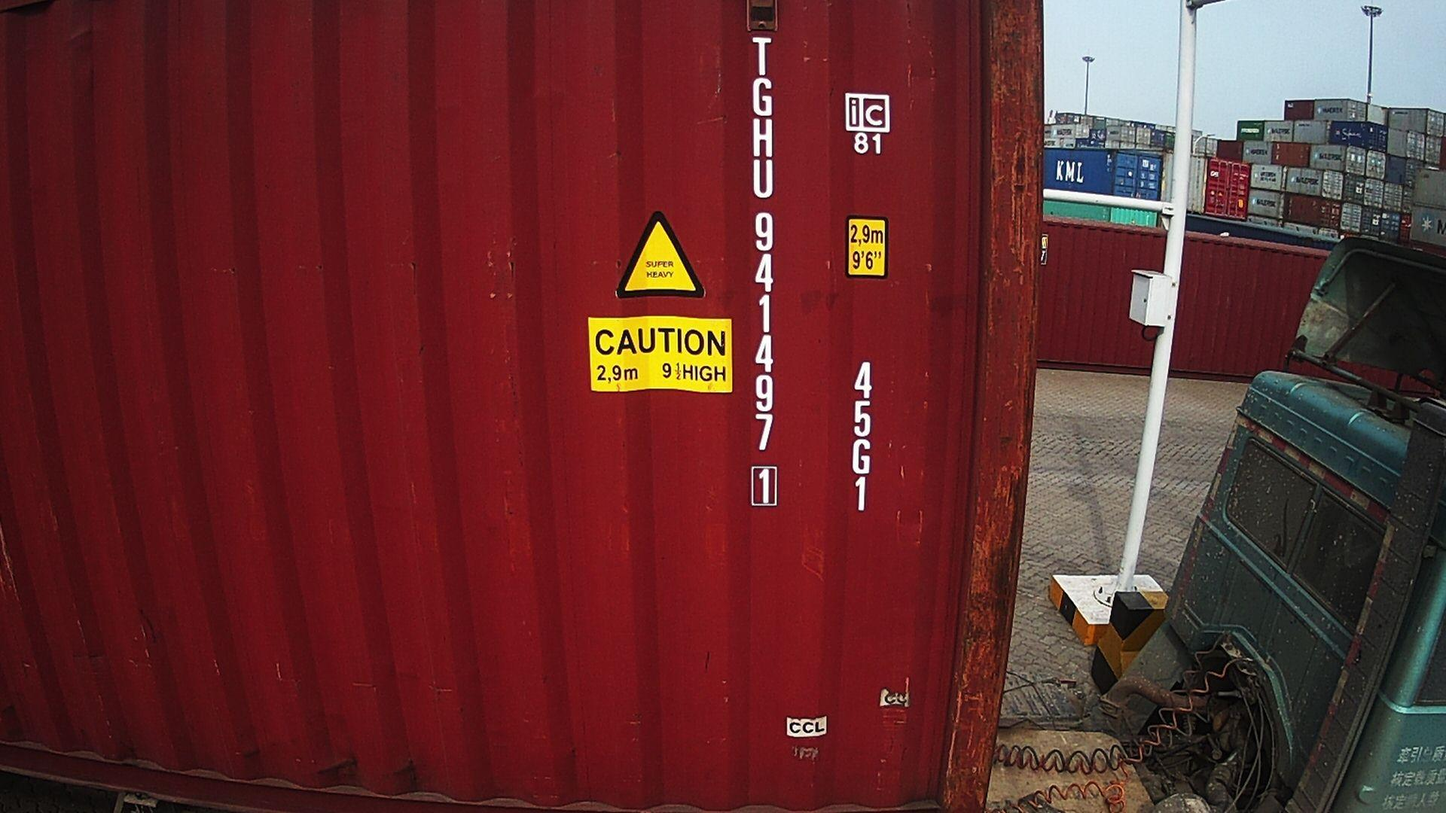container-numbers: (746, 32, 787, 520), (849, 355, 878, 517)
